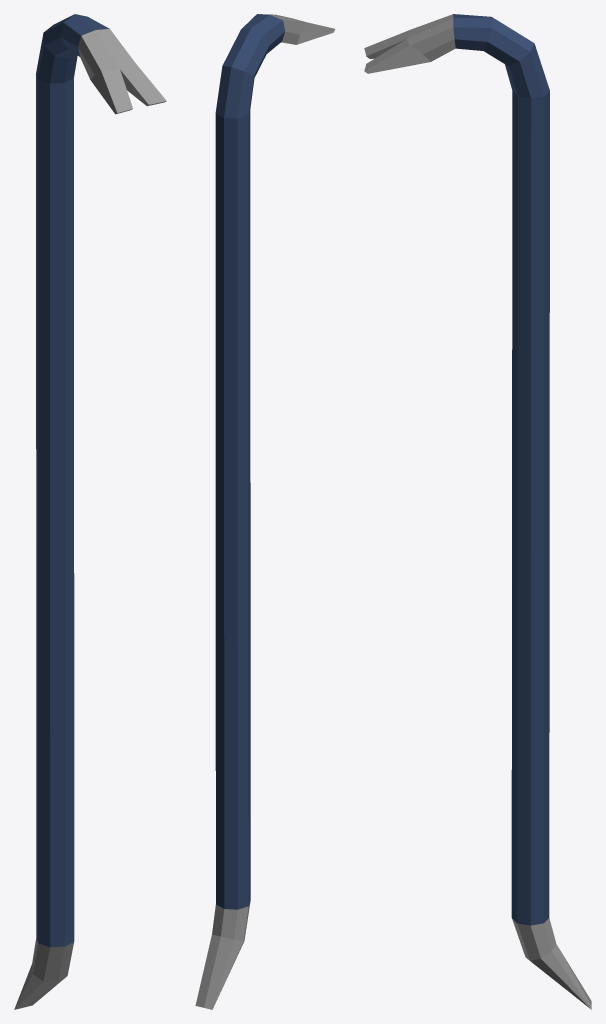
Rendered from crowbar_1.fbx.
3 renders of one model, left to right at view 1: azimuth 30°, elevation 25°; view 2: azimuth 150°, elevation 25°; view 3: azimuth 270°, elevation 25°, orthographic. The views are drawn at different scales.
Parts seen in each view (by area): view 1: crowbar_1; view 2: crowbar_1; view 3: crowbar_1.
Boxes of the visible parts, <box> form: crowbar_1: <box>14,14,166,1009</box>; crowbar_1: <box>195,14,335,1009</box>; crowbar_1: <box>364,14,591,1009</box>.
Size of the model in its own units: 8.72 by 174 by 36.2.
Materials: 1 (1 with a texture image).
